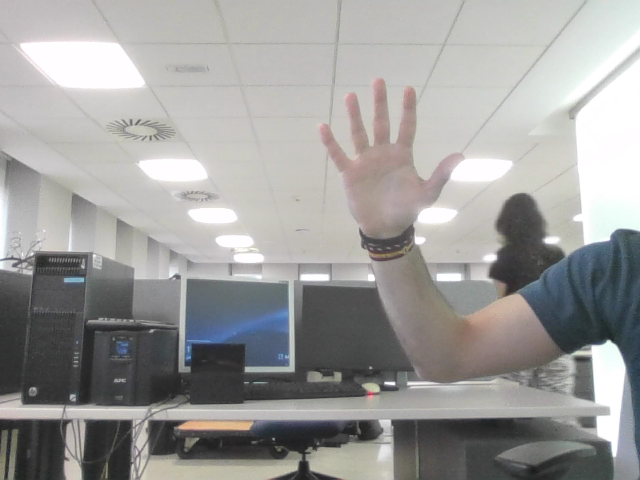Mano Abierta: (328, 90, 448, 206)
